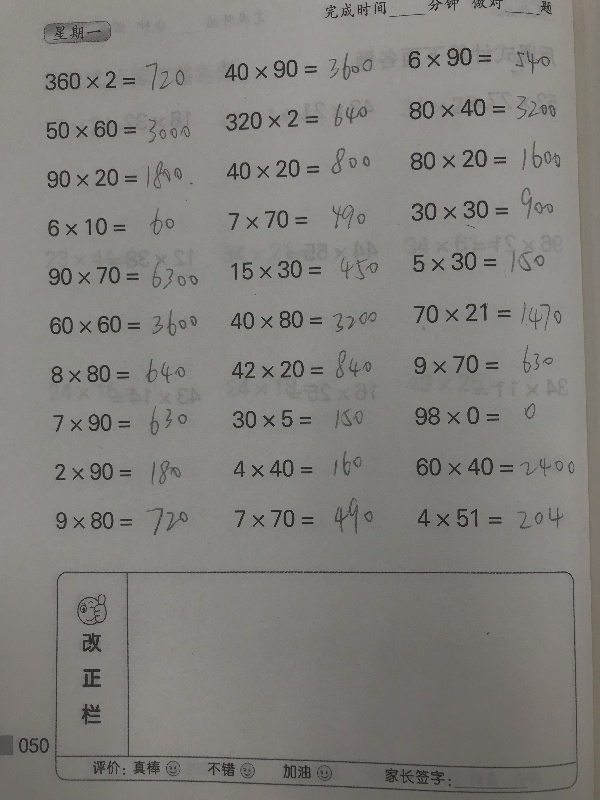equation: (408, 183, 555, 233), (231, 491, 376, 531), (45, 258, 202, 293), (406, 137, 563, 172), (220, 49, 376, 84), (41, 55, 187, 92), (404, 41, 553, 77), (44, 158, 197, 193), (228, 347, 376, 383), (410, 296, 565, 330), (225, 197, 372, 232), (222, 149, 373, 183), (222, 98, 373, 132), (46, 307, 201, 340), (227, 250, 382, 282), (406, 91, 560, 123), (49, 401, 193, 435), (43, 115, 195, 147), (409, 344, 554, 377), (414, 500, 561, 531), (51, 502, 193, 534), (47, 354, 189, 386), (226, 307, 380, 336), (43, 206, 178, 239), (53, 453, 187, 486), (230, 448, 364, 481), (413, 454, 579, 480), (229, 402, 367, 431), (412, 398, 541, 429), (409, 246, 547, 274)
